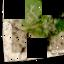Morning glory: (7, 0, 64, 58)
